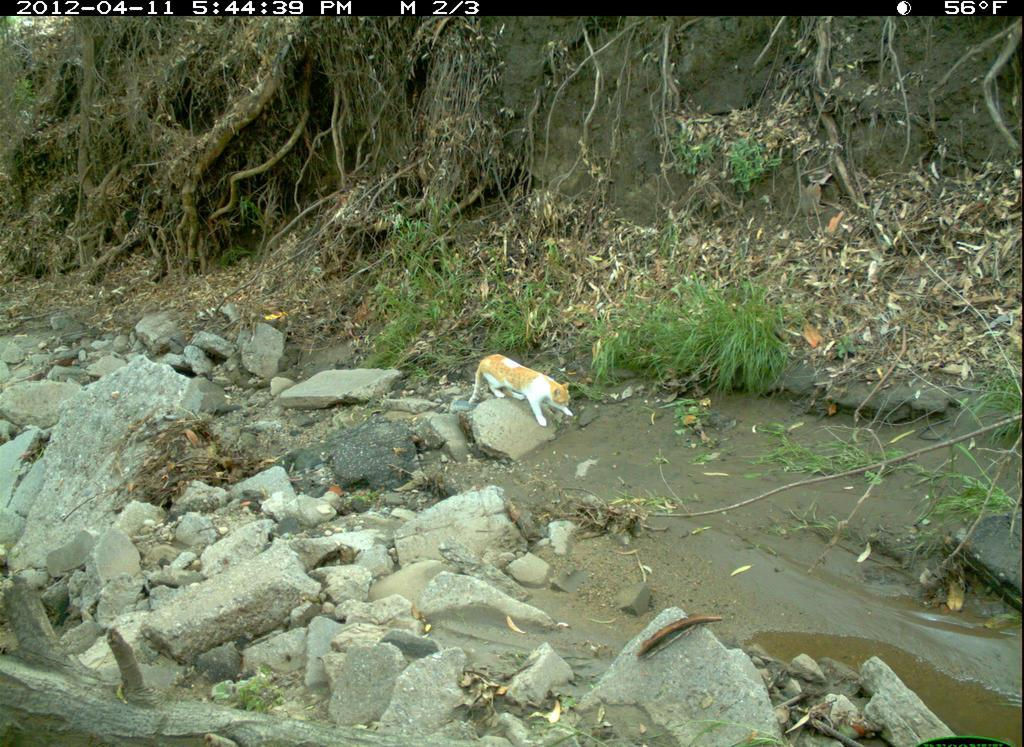cat: (464, 344, 579, 432)
